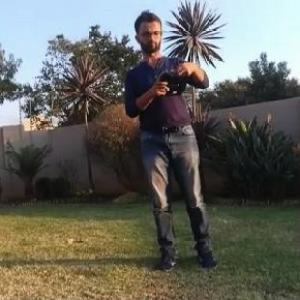follow: (118, 0, 222, 274)
